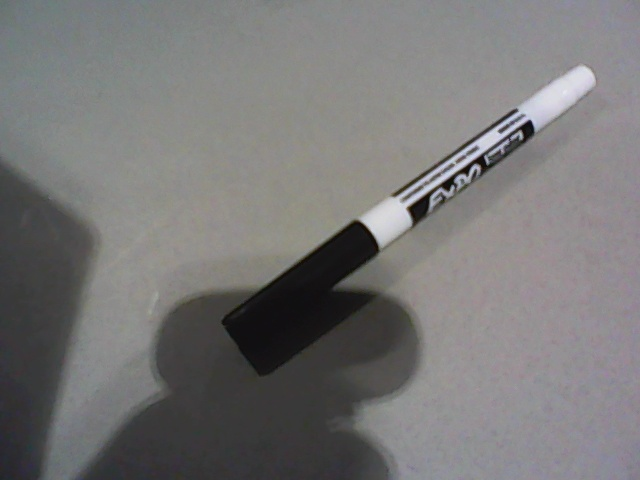marker: (220, 65, 597, 376)
